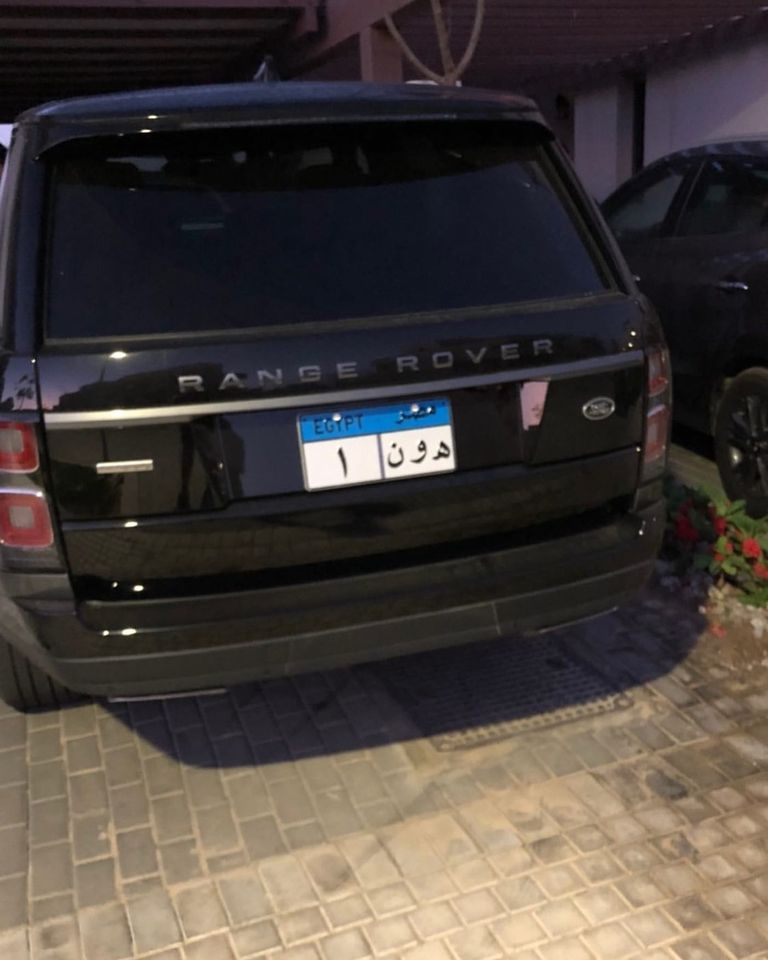carpl: (310, 417, 456, 493)
